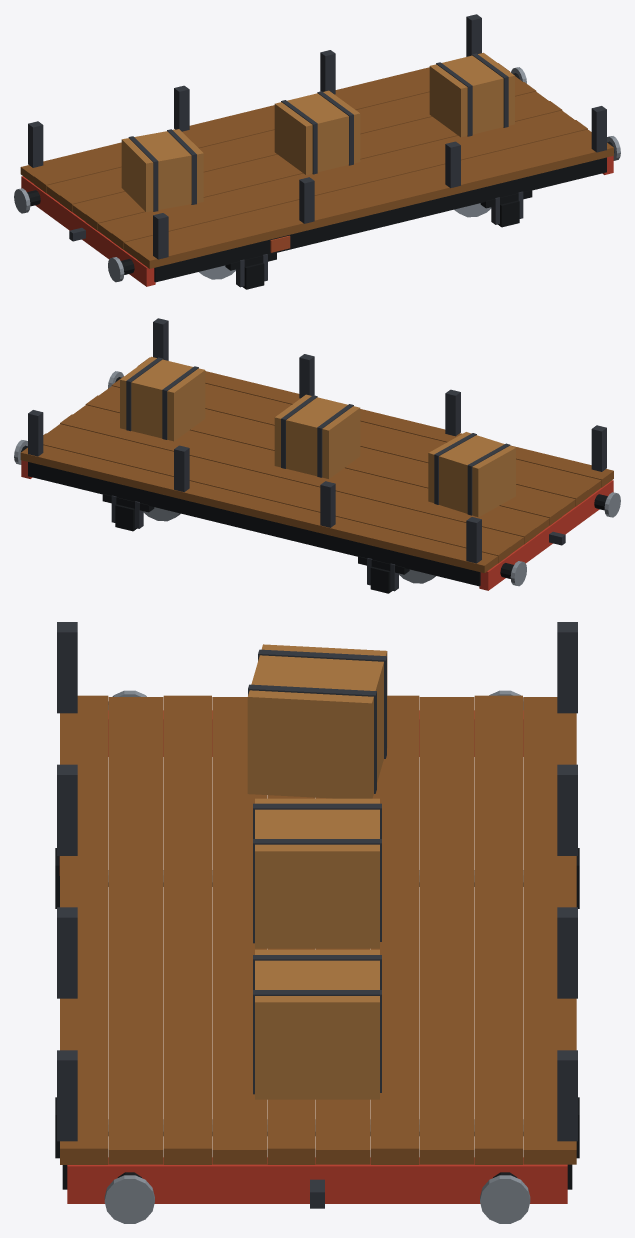
File: WagonFlatCrates_atlas.fbx
The picture shows the model from 3 angles, top to bottom: view 1: azimuth 30°, elevation 25°; view 2: azimuth 150°, elevation 25°; view 3: azimuth 270°, elevation 25°; orthographic projection. The views are drawn at different scales.
Parts seen in each view (by area): view 1: WagonFlatCrates_Deck_Timber_01, WagonFlatCrates_Solebar_Chassis_01, WagonFlatCrates_Crate_Crate_03, WagonFlatCrates_Crate_Crate_02, WagonFlatCrates_Crate_Crate_01, WagonFlatCrates_Stanchion_Iron_01, WagonFlatCrates_Stanchion_Iron_02, WagonFlatCrates_BufferBeam_Buffer_01, WagonFlatCrates_CrateBand_Iron_03, WagonFlatCrates_CrateBand_Iron_01, WagonFlatCrates_CrateBand_Iron_02, WagonFlatCrates_Axlebox_Chassis_01 (+1 smaller); view 2: WagonFlatCrates_Deck_Timber_01, WagonFlatCrates_Solebar_Chassis_02, WagonFlatCrates_Crate_Crate_01, WagonFlatCrates_Crate_Crate_03, WagonFlatCrates_Crate_Crate_02, WagonFlatCrates_Stanchion_Iron_02, WagonFlatCrates_Stanchion_Iron_01, WagonFlatCrates_BufferBeam_Buffer_01, WagonFlatCrates_CrateBand_Iron_03, WagonFlatCrates_CrateBand_Iron_01, WagonFlatCrates_CrateBand_Iron_02, WagonFlatCrates_Axlebox_Chassis_02 (+1 smaller); view 3: WagonFlatCrates_Deck_Timber_01, WagonFlatCrates_Crate_Crate_01, WagonFlatCrates_Crate_Crate_02, WagonFlatCrates_Crate_Crate_03, WagonFlatCrates_BufferBeam_Buffer_02, WagonFlatCrates_Stanchion_Iron_01, WagonFlatCrates_Stanchion_Iron_02, WagonFlatCrates_CrateBand_Iron_01, WagonFlatCrates_CrateBand_Iron_02, WagonFlatCrates_CrateBand_Iron_03, WagonFlatCrates_BufferHead_Steel_03, WagonFlatCrates_BufferHead_Steel_04.
Part boxes in pixels (x1,y1,x2,y2): WagonFlatCrates_Deck_Timber_01: (20,63,613,268); WagonFlatCrates_Solebar_Chassis_01: (154,157,606,282); WagonFlatCrates_Crate_Crate_03: (429,52,514,137); WagonFlatCrates_Crate_Crate_02: (274,90,360,174); WagonFlatCrates_Crate_Crate_01: (121,129,203,212); WagonFlatCrates_Stanchion_Iron_01: (153,106,606,259); WagonFlatCrates_Stanchion_Iron_02: (28,14,481,167); WagonFlatCrates_BufferBeam_Buffer_01: (21,176,155,286); WagonFlatCrates_CrateBand_Iron_03: (436,53,508,136); WagonFlatCrates_CrateBand_Iron_01: (128,129,196,211); WagonFlatCrates_CrateBand_Iron_02: (281,91,353,174); WagonFlatCrates_Axlebox_Chassis_01: (242,262,264,289); WagonFlatCrates_Deck_Timber_01: (20,357,613,573); WagonFlatCrates_Solebar_Chassis_02: (28,462,480,586); WagonFlatCrates_Crate_Crate_01: (428,432,515,517); WagonFlatCrates_Crate_Crate_03: (120,356,205,441); WagonFlatCrates_Crate_Crate_02: (274,394,360,478); WagonFlatCrates_Stanchion_Iron_02: (28,410,481,563); WagonFlatCrates_Stanchion_Iron_01: (153,318,606,471); WagonFlatCrates_BufferBeam_Buffer_01: (479,480,613,590); WagonFlatCrates_CrateBand_Iron_03: (126,357,198,439); WagonFlatCrates_CrateBand_Iron_01: (434,433,510,515); WagonFlatCrates_CrateBand_Iron_02: (281,395,353,477); WagonFlatCrates_Axlebox_Chassis_02: (370,566,392,593); WagonFlatCrates_Deck_Timber_01: (60,695,576,1164); WagonFlatCrates_Crate_Crate_01: (247,644,387,798); WagonFlatCrates_Crate_Crate_02: (255,798,379,948); WagonFlatCrates_Crate_Crate_03: (255,949,379,1099); WagonFlatCrates_BufferBeam_Buffer_02: (67,1157,567,1203); WagonFlatCrates_Stanchion_Iron_01: (57,622,77,1141); WagonFlatCrates_Stanchion_Iron_02: (557,622,577,1141); WagonFlatCrates_CrateBand_Iron_01: (248,649,386,793); WagonFlatCrates_CrateBand_Iron_02: (253,803,381,943); WagonFlatCrates_CrateBand_Iron_03: (253,955,381,1094); WagonFlatCrates_BufferHead_Steel_03: (104,1175,154,1223); WagonFlatCrates_BufferHead_Steel_04: (480,1175,530,1223).
Size of what is drawn, in the model's own units: 38.8 by 8.65 by 17.6.
1 material, 1 textured.
